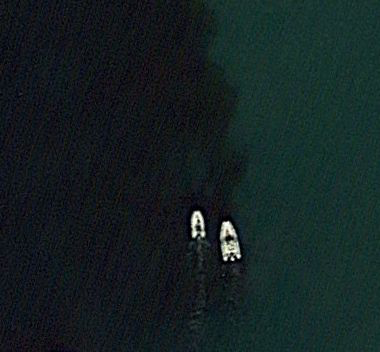boat: (218, 218, 243, 265), (189, 210, 207, 241)
